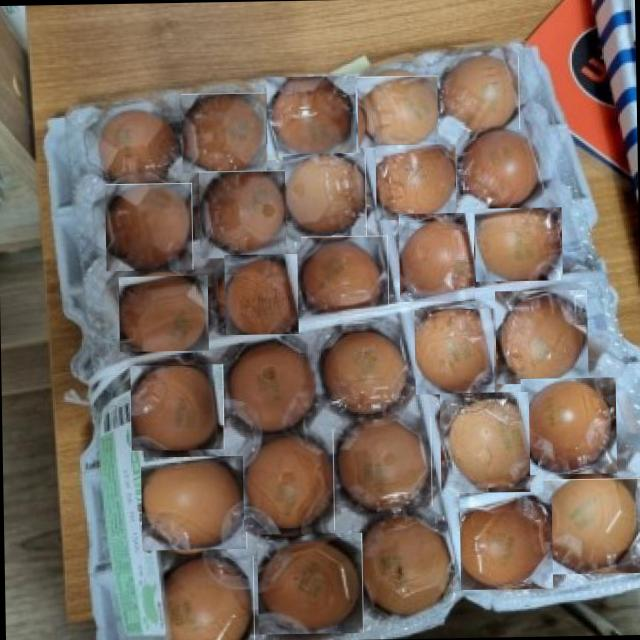eggs: (352, 510, 459, 623), (258, 532, 362, 636), (142, 452, 244, 553), (438, 390, 530, 496), (520, 377, 618, 475), (544, 475, 640, 575), (314, 323, 414, 418), (242, 430, 335, 531), (457, 492, 554, 588), (333, 416, 432, 508), (224, 338, 318, 434), (494, 289, 589, 383), (130, 362, 224, 450), (104, 182, 194, 271), (160, 555, 254, 640), (198, 170, 286, 258), (266, 74, 356, 160), (280, 154, 368, 241), (454, 128, 544, 212), (93, 106, 180, 192), (414, 306, 496, 394), (118, 274, 209, 351), (395, 216, 479, 299), (182, 90, 264, 174), (473, 206, 562, 282), (301, 234, 388, 310), (436, 56, 520, 132), (376, 142, 454, 222), (222, 254, 300, 334), (358, 72, 436, 150)
